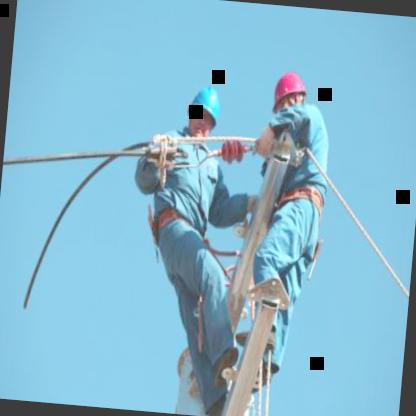helmet: (181, 80, 227, 148), (270, 67, 311, 118)
